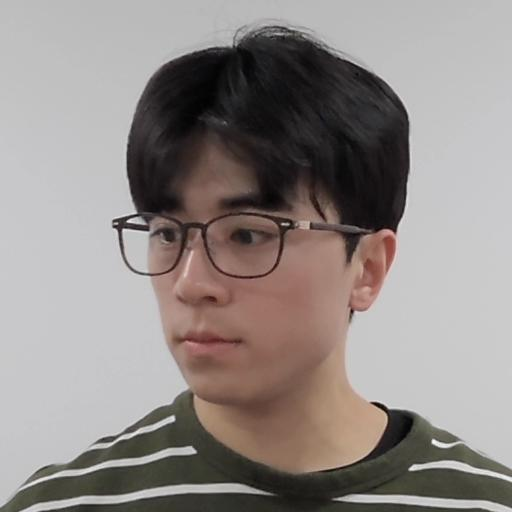no_glasses: (113, 34, 409, 404)
